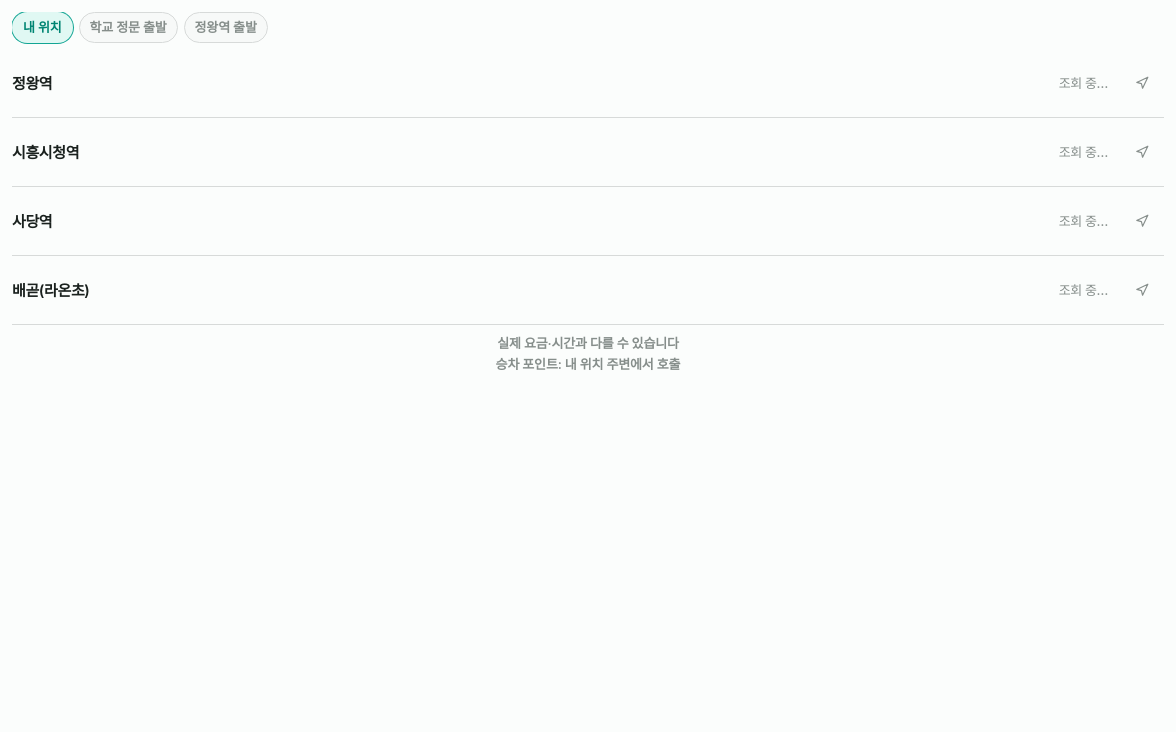
Test case: TaxiPanel — AI티 제거 검증 › 내 위치 출발이 기본이고, 학교 정문 출발로 바꾸면 승차 포인트가 따라온다
The image size is (1176, 732).
Expected: the text "승차 포인트: 내 위치 주변에서 호출" is shown, left=496, top=356, right=680, bottom=372
Click the button "학교 정문 출발" at (128, 28), box left=78, top=12, right=178, bottom=43
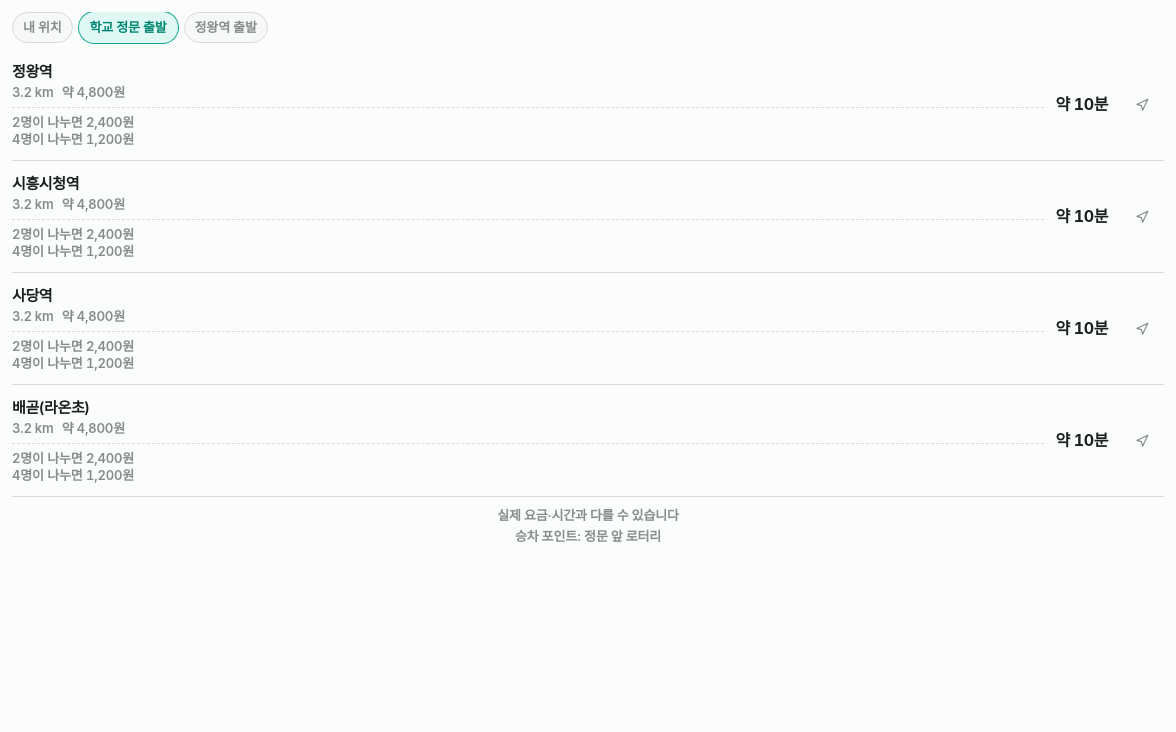
Result: the text "승차 포인트: 정문 앞 로터리" is shown at left=515, top=528, right=661, bottom=544
